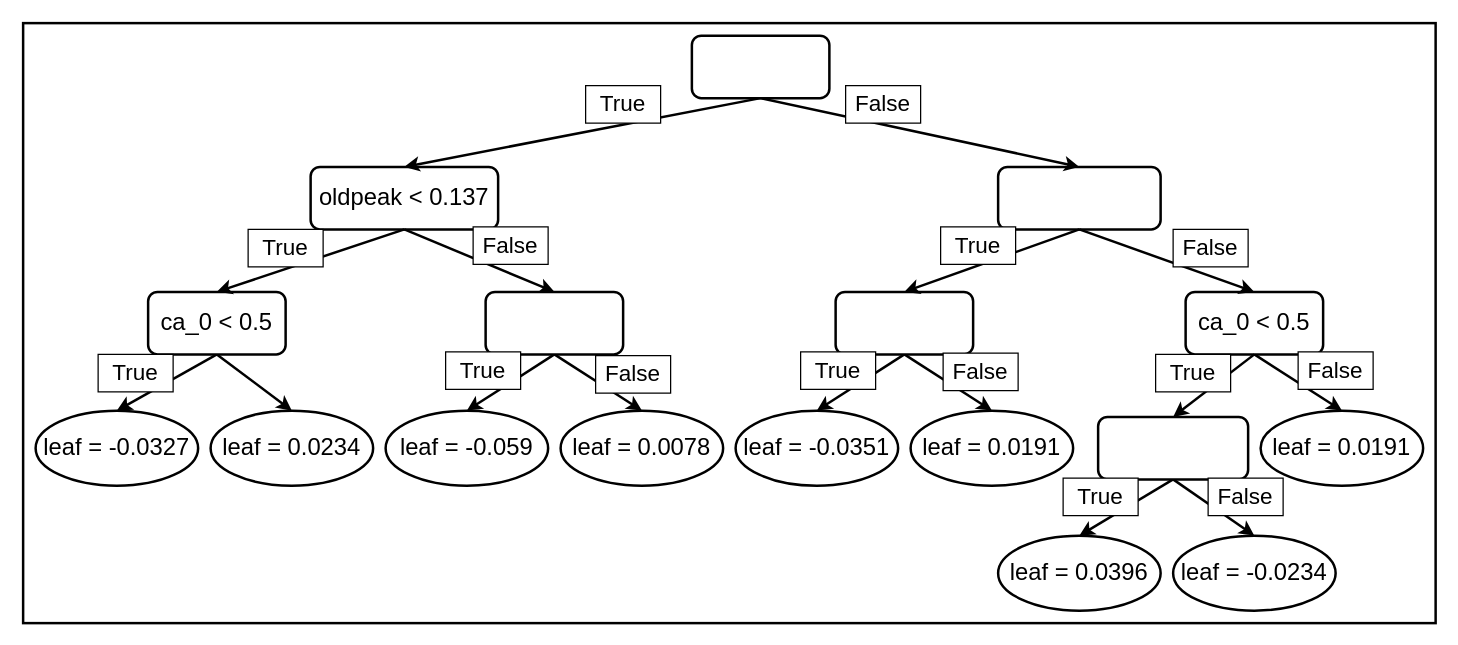
Some shapes in this 1458 by 645 pixel diagram are drawn without their labels. Each missing label, with the centre of its shape:
"cp_3 < 0.5" belongs at point (554, 322).
"sex_0 < 0.5" belongs at point (904, 322).
"slope_1 < 0.5" belongs at point (1172, 447).
"thal_2 < 0.5" belongs at point (760, 66).
"thalach < 0.5" belongs at point (1078, 197).
